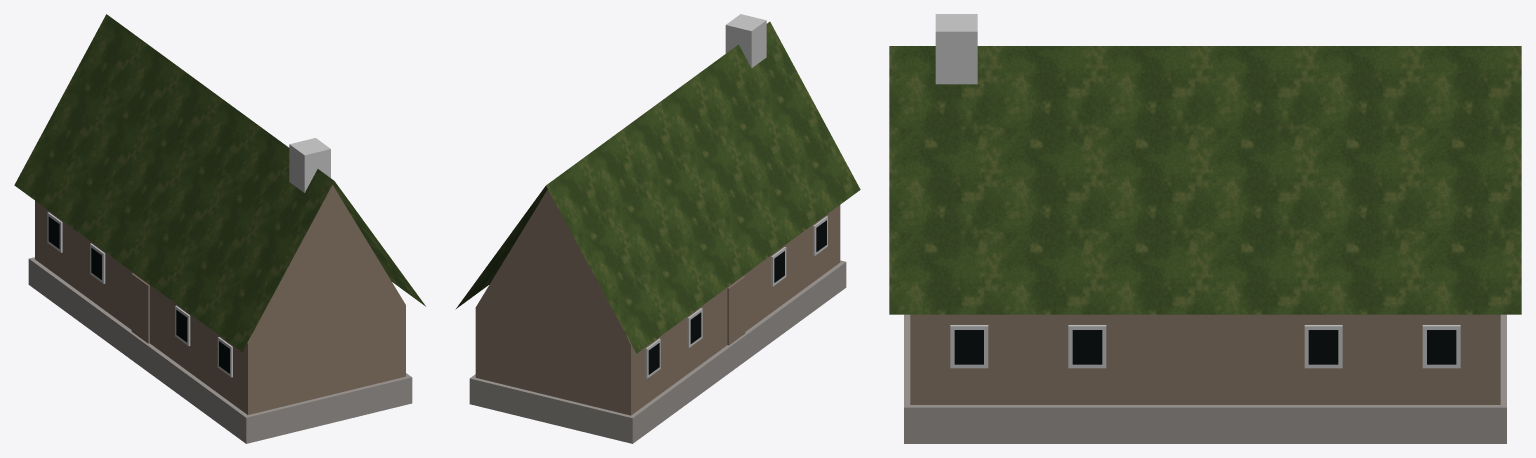
File: SM_Art_Settlement_Nordic_5.gltf
3 renders of one model, left to right at view 1: azimuth 30°, elevation 25°; view 2: azimuth 150°, elevation 25°; view 3: azimuth 270°, elevation 25°, orthographic. The views are drawn at different scales.
Visible parts, largest first — view 1: SM_Art_Settlement_Nordic_5; view 2: SM_Art_Settlement_Nordic_5; view 3: SM_Art_Settlement_Nordic_5.
Boxes of the visible parts, box(x1,y1,x2,y2) form: SM_Art_Settlement_Nordic_5: box(14, 14, 425, 443); SM_Art_Settlement_Nordic_5: box(455, 14, 860, 443); SM_Art_Settlement_Nordic_5: box(889, 14, 1521, 443).
Size of the model in its own units: 7 by 9.55 by 15.
